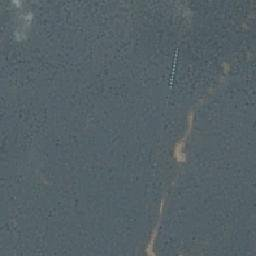debris: (146, 196, 164, 256), (173, 137, 188, 163), (184, 109, 194, 134)
